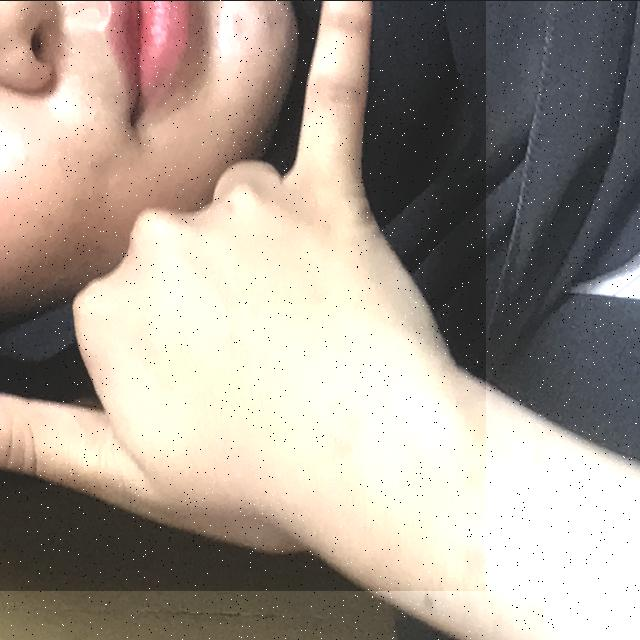telpon: (0, 0, 486, 590)
